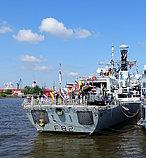MIL_Ship: (18, 41, 145, 136)
